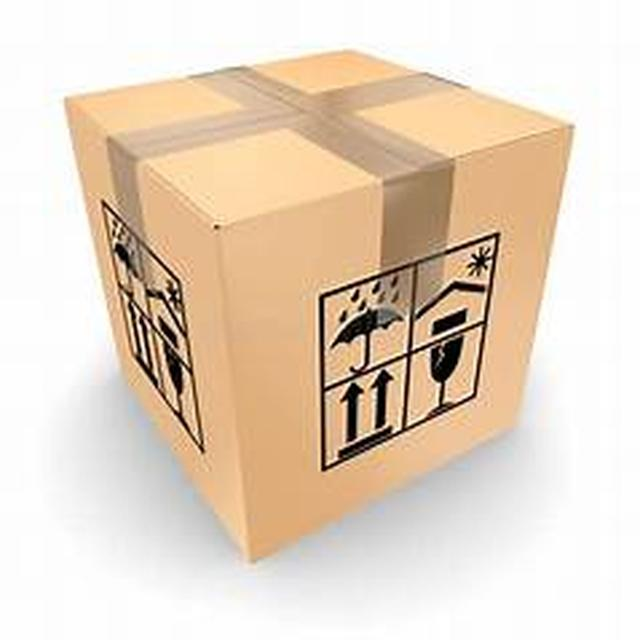box: (88, 39, 564, 563)
